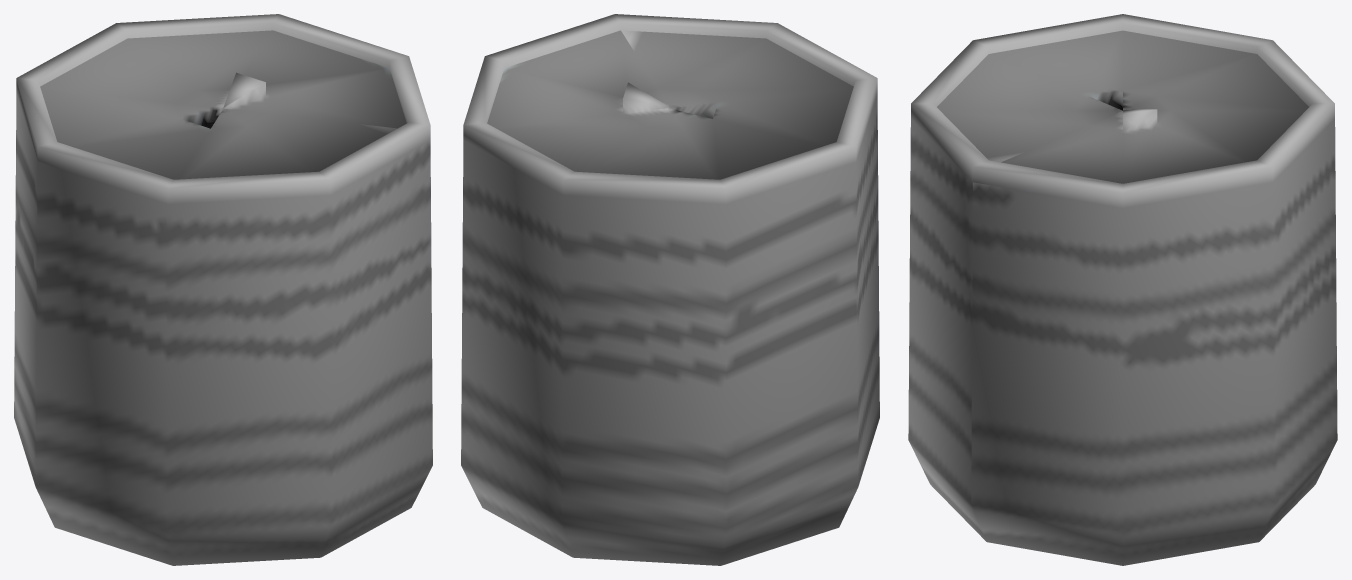
File: TrashCan.fbx
The picture shows the model from 3 angles, left to right: view 1: azimuth 30°, elevation 25°; view 2: azimuth 150°, elevation 25°; view 3: azimuth 270°, elevation 25°; orthographic projection.
Parts seen in each view (by area): view 1: TrashCan; view 2: TrashCan; view 3: TrashCan.
Boxes of the visible parts, box(x1,y1,x2,y2) form: TrashCan: box(14, 14, 432, 565); TrashCan: box(461, 14, 879, 565); TrashCan: box(908, 14, 1337, 565).
Size of the model in its own units: 0.2233 by 0.2244 by 0.2233.
